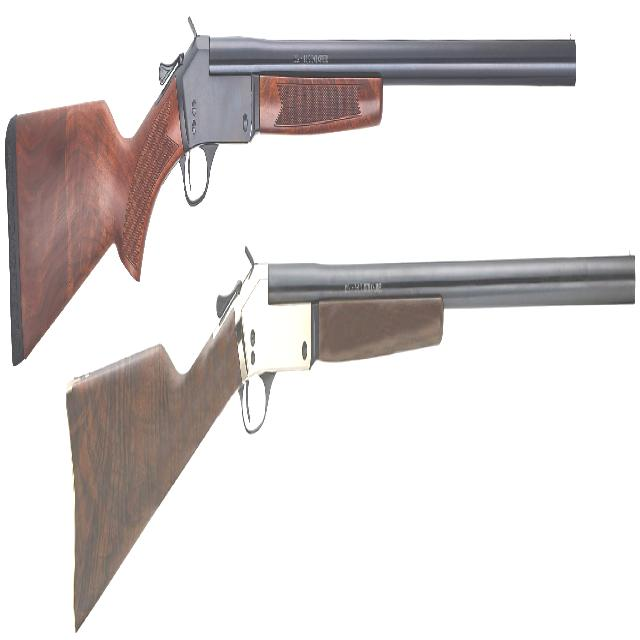long weapon: (63, 238, 638, 622), (22, 3, 596, 228)
